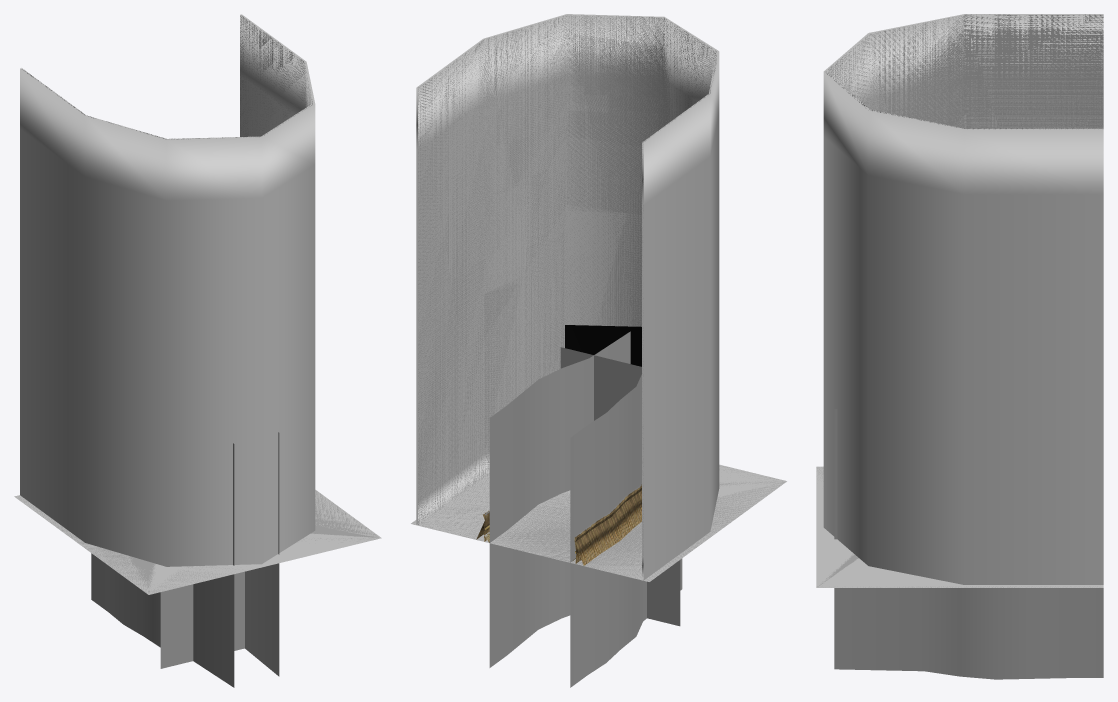
Rendered from start1.fbx.
The picture shows the model from 3 angles, left to right: view 1: azimuth 30°, elevation 25°; view 2: azimuth 150°, elevation 25°; view 3: azimuth 270°, elevation 25°; orthographic projection. The views are drawn at different scales.
Parts seen in each view (by area): view 1: mdl_LOD0, mdl2_LOD0, col_w, col_o, col_p; view 2: mdl_LOD0, col_o, col_w, mdl2_LOD0, col_p; view 3: mdl_LOD0, mdl2_LOD0, col_o, col_w.
Part boxes in pixels (x1,y1,x2,y2): mdl_LOD0: (14,75,381,594); mdl2_LOD0: (20,14,315,200); col_w: (91,432,279,687); col_o: (14,15,379,594); col_p: (160,571,244,668); mdl_LOD0: (411,77,786,581); col_o: (411,15,785,581); col_w: (489,331,682,687); mdl2_LOD0: (416,14,719,561); col_p: (560,347,680,626); mdl_LOD0: (816,80,1103,587); mdl2_LOD0: (823,14,1103,194); col_o: (816,14,1103,587); col_w: (834,409,1103,679).
Size of what is drawn, in the model's own units: 1600 by 3600 by 1600.
